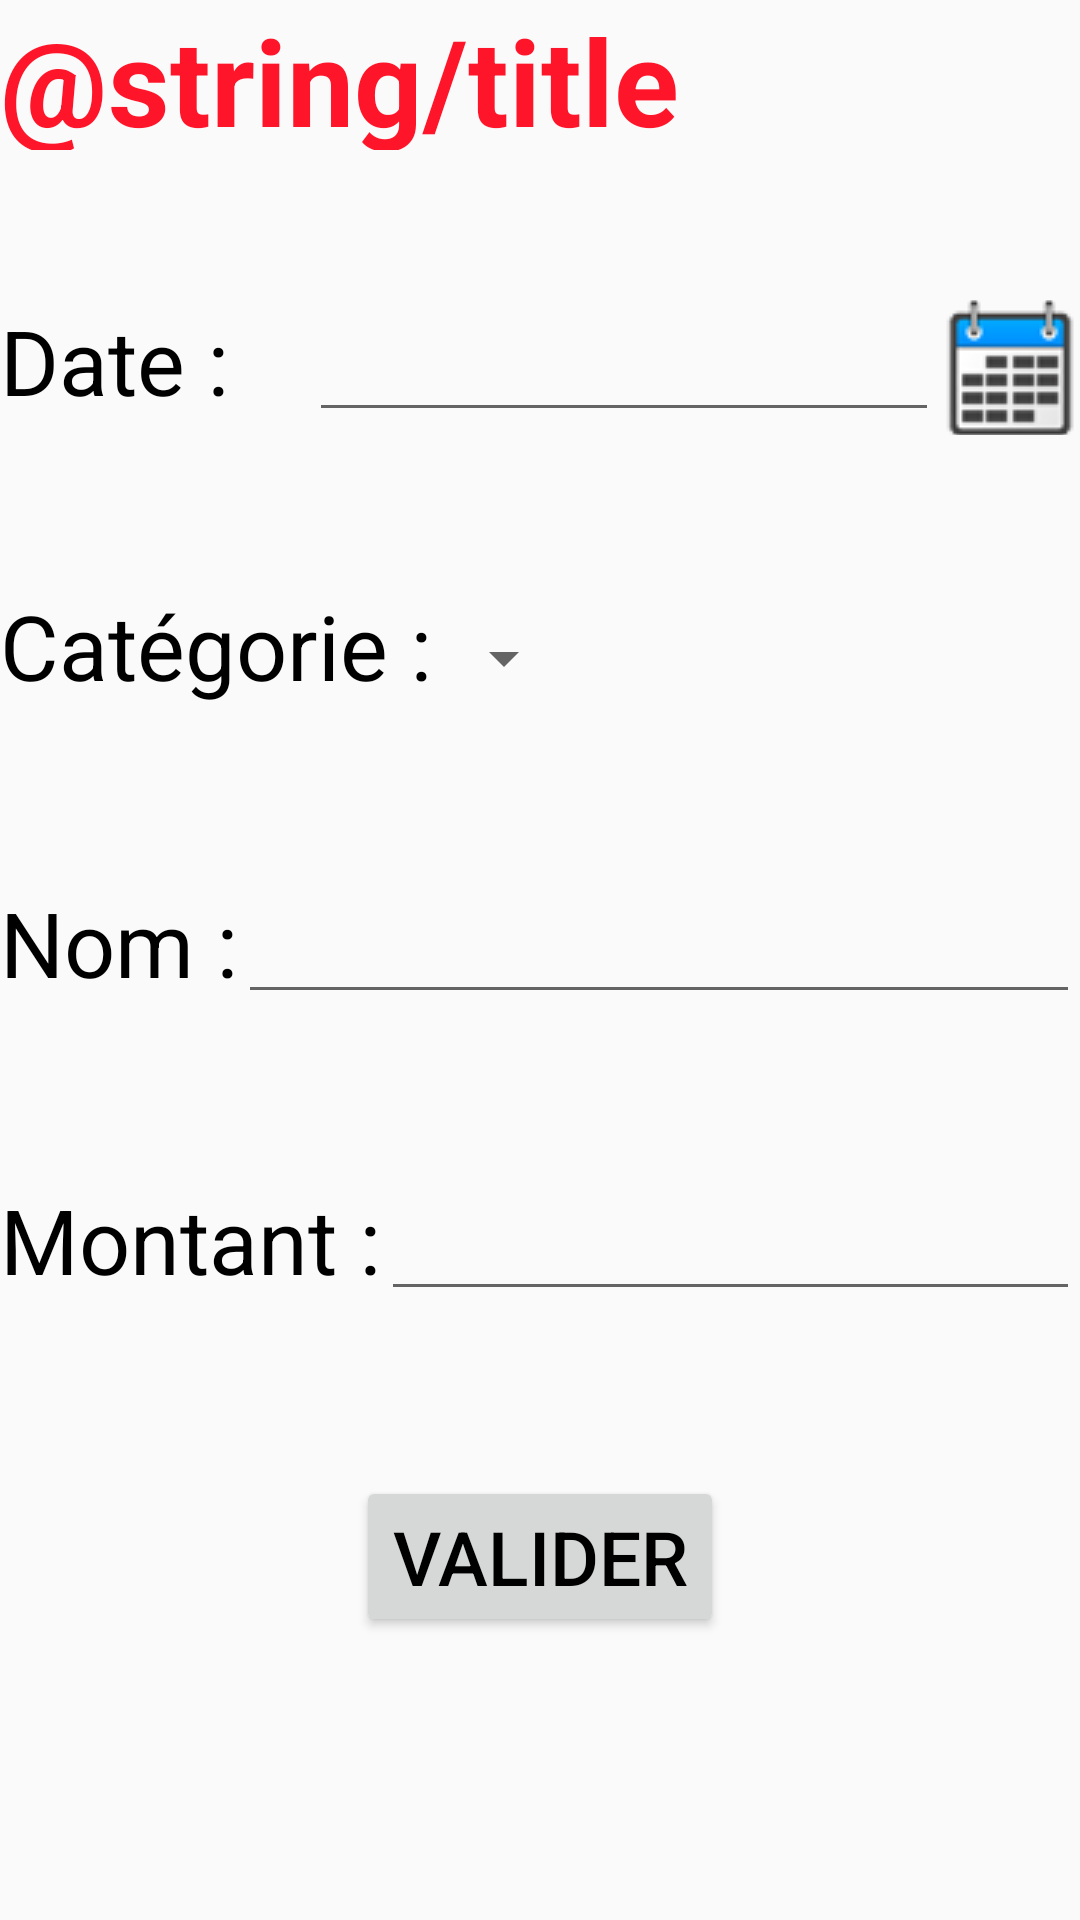

Icon bounding boxes for this 1080px×1920px phone screenshot, format [x1, y1, x2, y2]:
calendar: [948, 300, 1073, 435]
